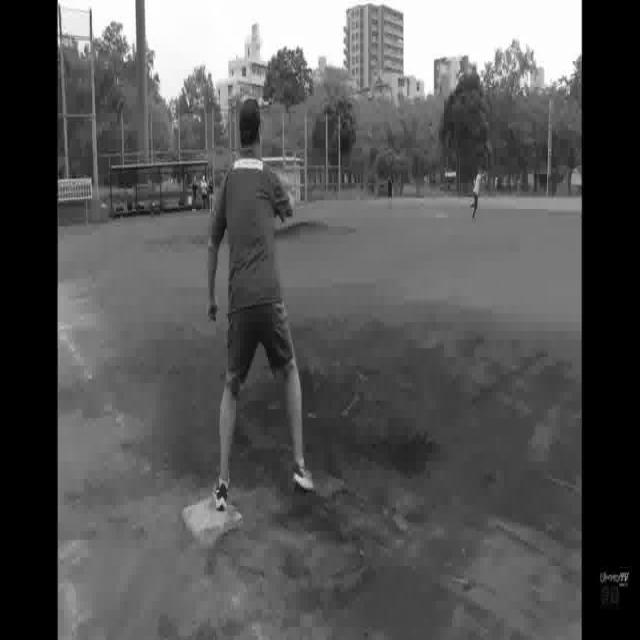base: (183, 494, 240, 544)
shoe: (292, 456, 314, 492), (214, 478, 230, 507)
